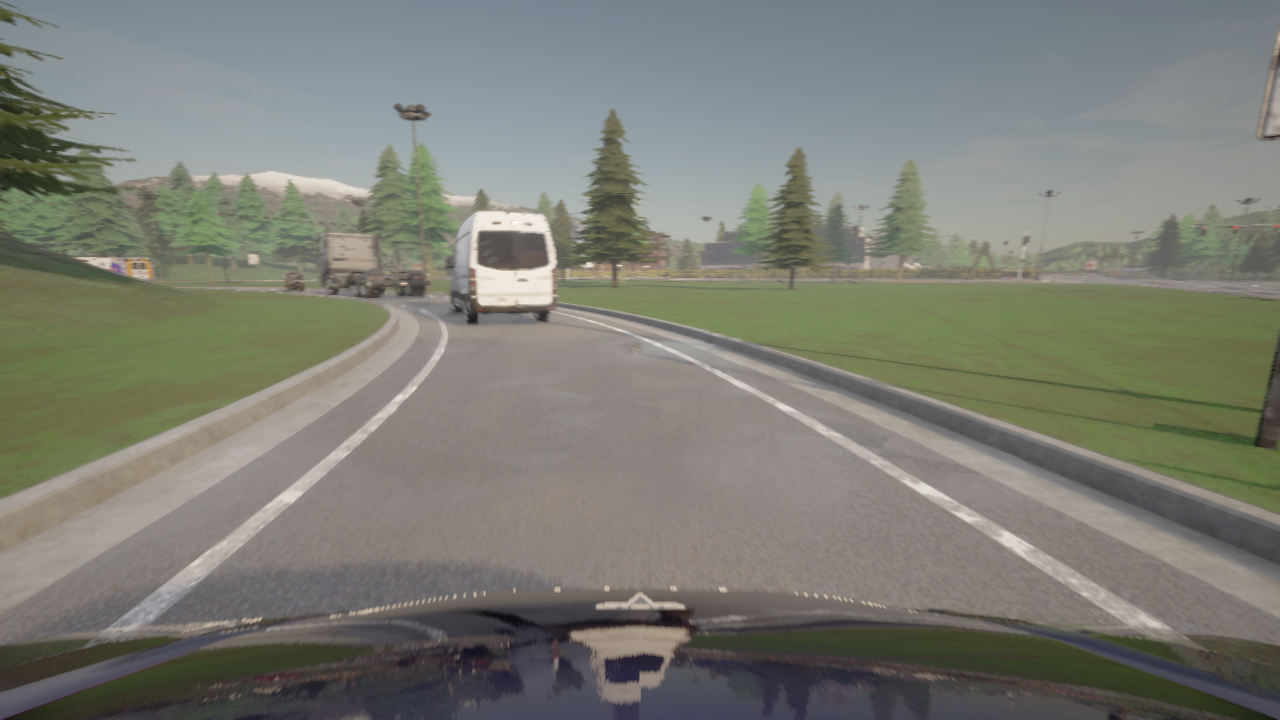cyclist: (0, 588, 1279, 719), (444, 211, 556, 324), (311, 232, 429, 298), (74, 257, 158, 283), (281, 274, 305, 292), (1041, 273, 1043, 274)
